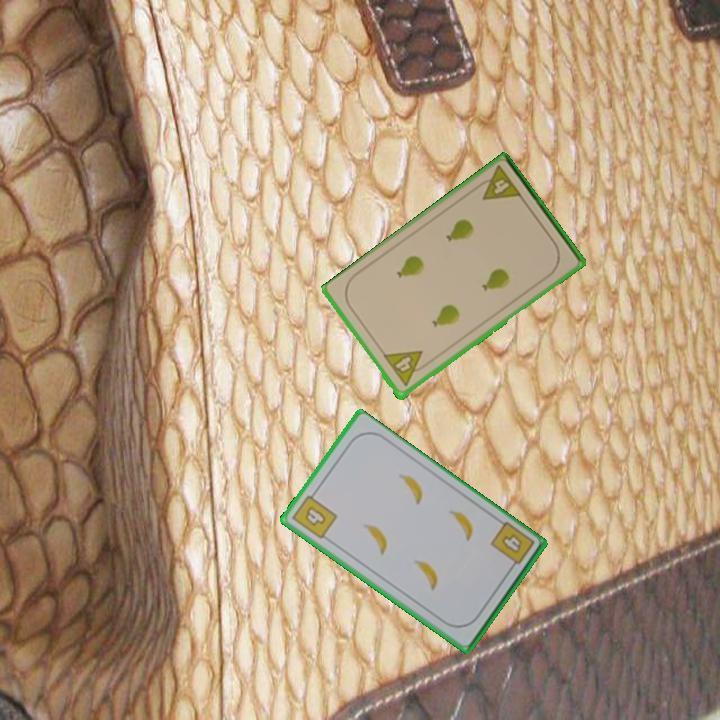4b: (288, 487, 340, 542), (487, 518, 537, 574)
4p: (380, 347, 432, 390), (471, 162, 524, 204)
